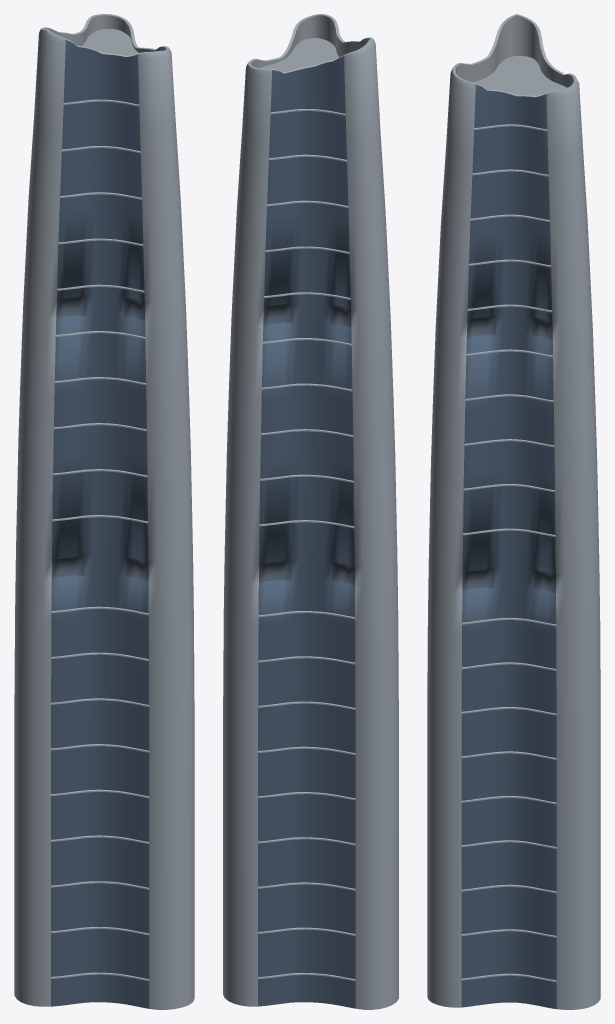
Rendered from wuhan-greenland-center.glb.
3 renders of one model, left to right at view 1: azimuth 30°, elevation 25°; view 2: azimuth 150°, elevation 25°; view 3: azimuth 270°, elevation 25°, orthographic. The views are drawn at different scales.
Parts seen in each view (by area): view 1: Wuhan Greenland Center; view 2: Wuhan Greenland Center; view 3: Wuhan Greenland Center.
Boxes of the visible parts, x1,y1,x2,y2 form: Wuhan Greenland Center: [14, 14, 194, 1009]; Wuhan Greenland Center: [223, 14, 398, 1009]; Wuhan Greenland Center: [427, 14, 600, 1009].
Bounding box in the file's own units: 74.01 × 476 × 79.63.
